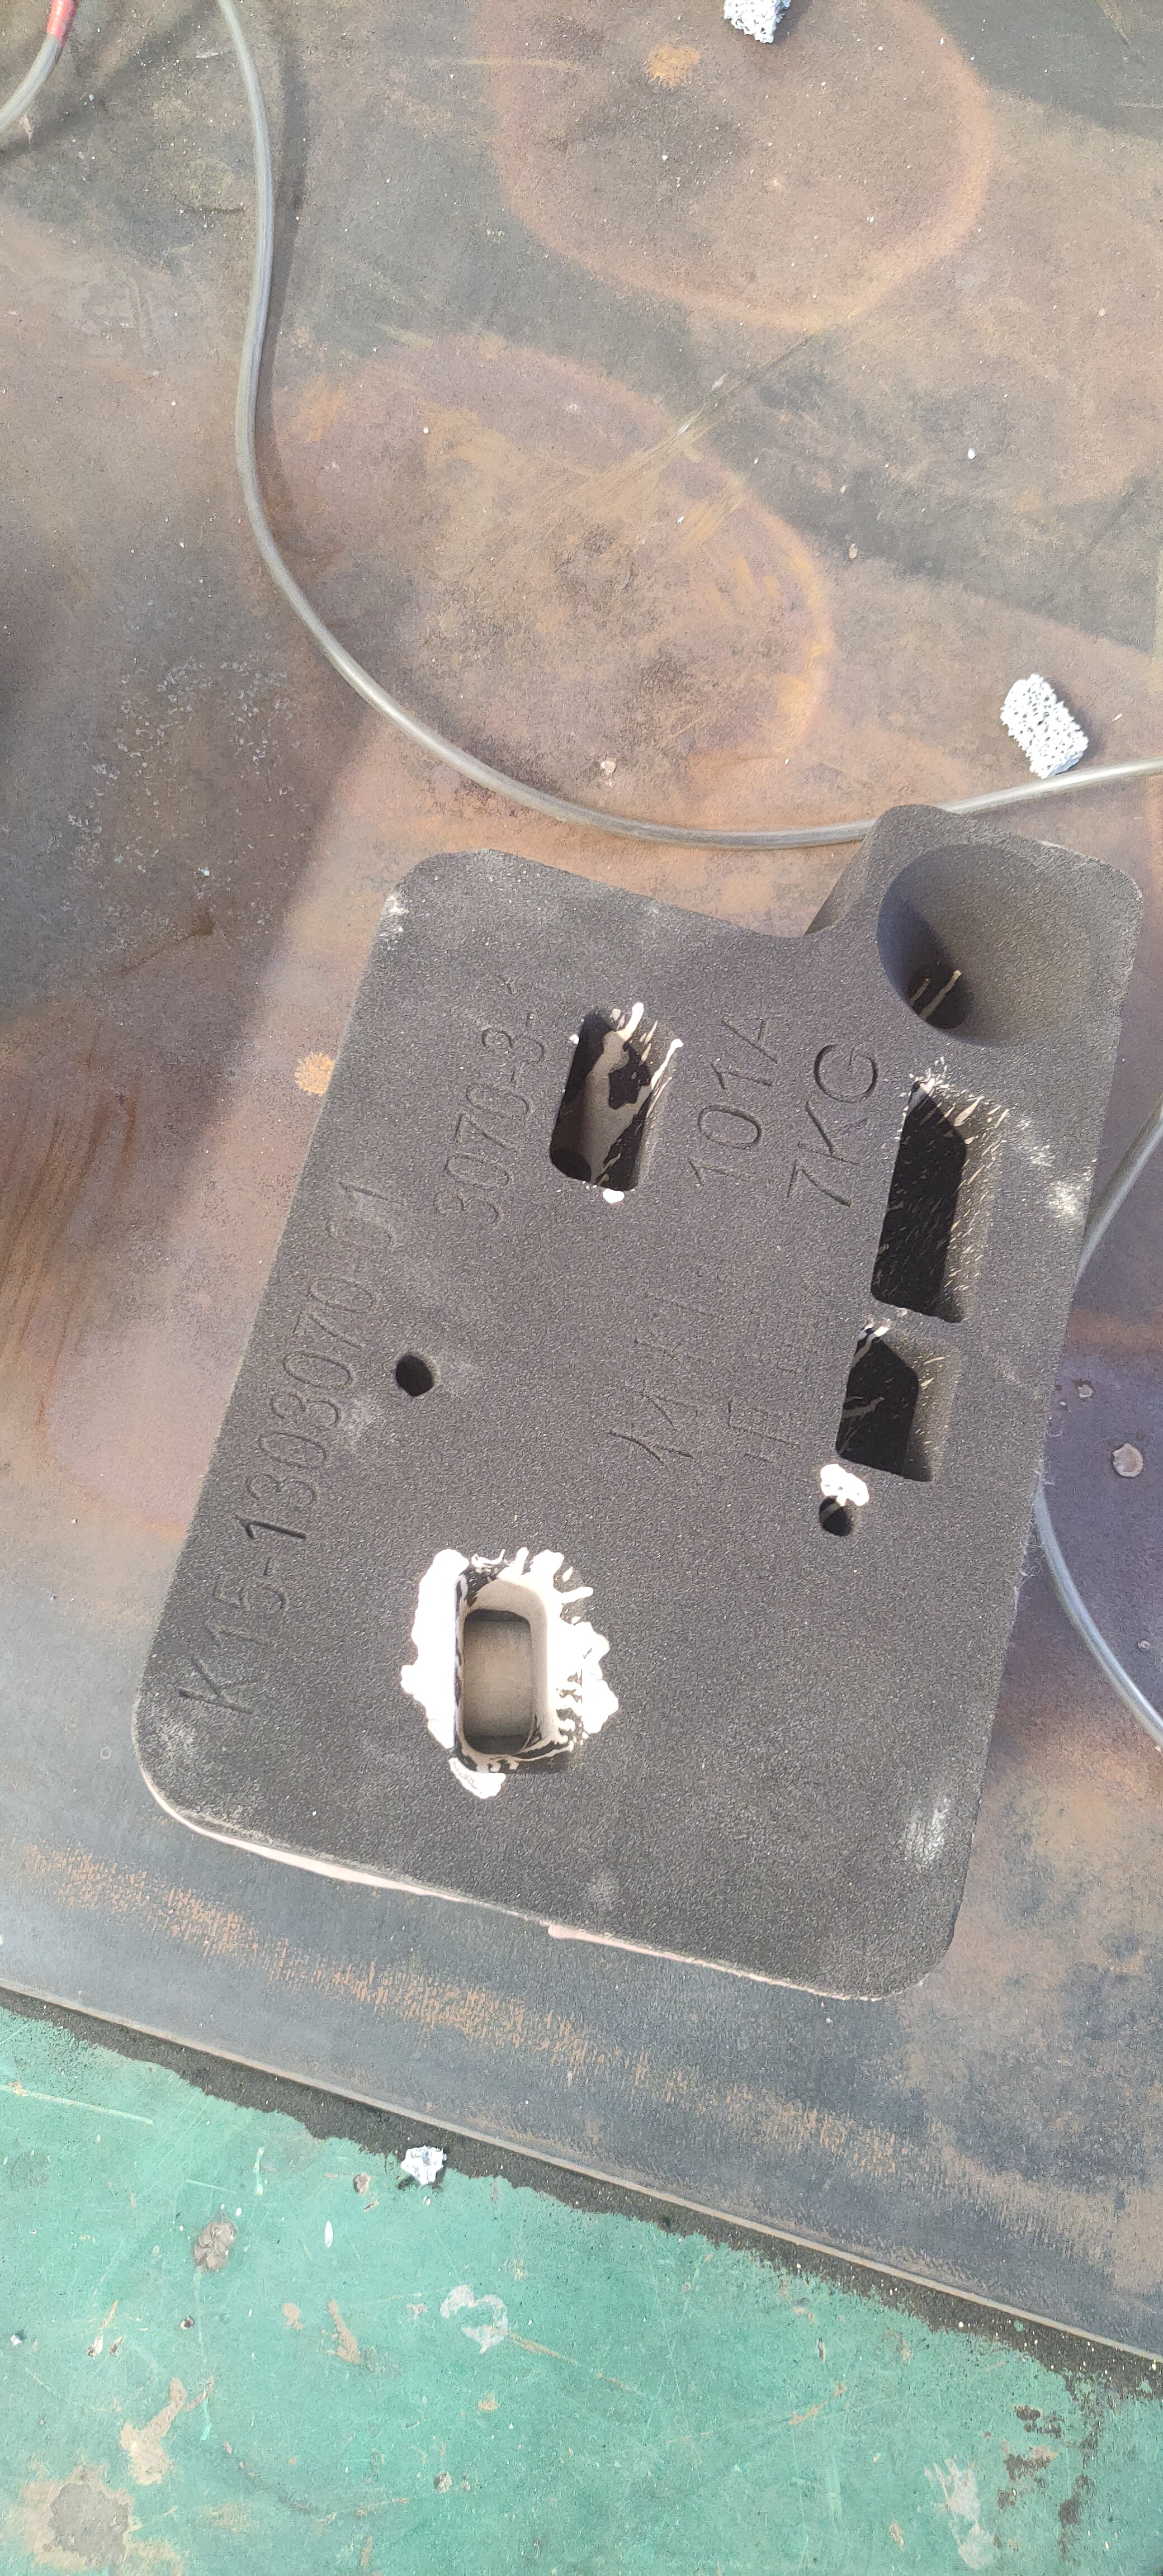pouring hole: (872, 841, 1104, 1051)
